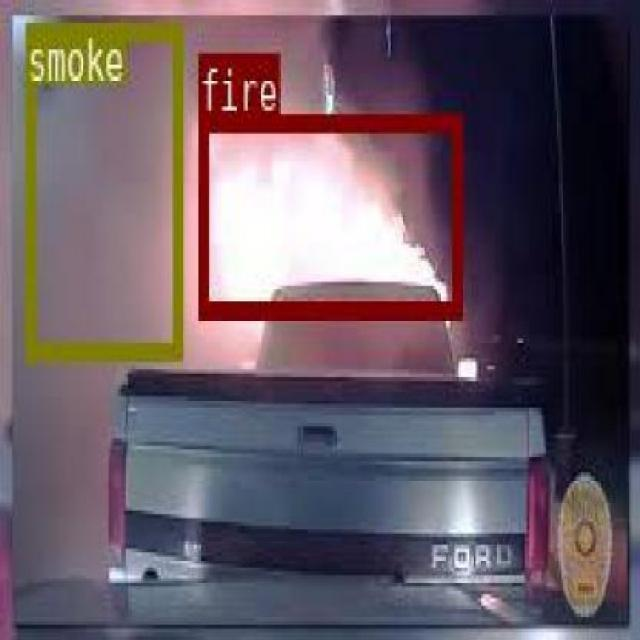Fire: (196, 112, 458, 312)
Smoke: (24, 21, 180, 358)
